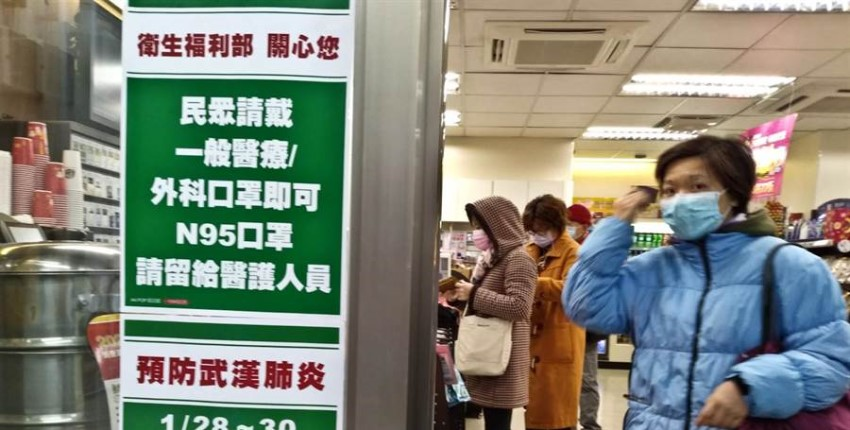Mask: (654, 154, 737, 245), (523, 209, 562, 251), (468, 207, 500, 258)
